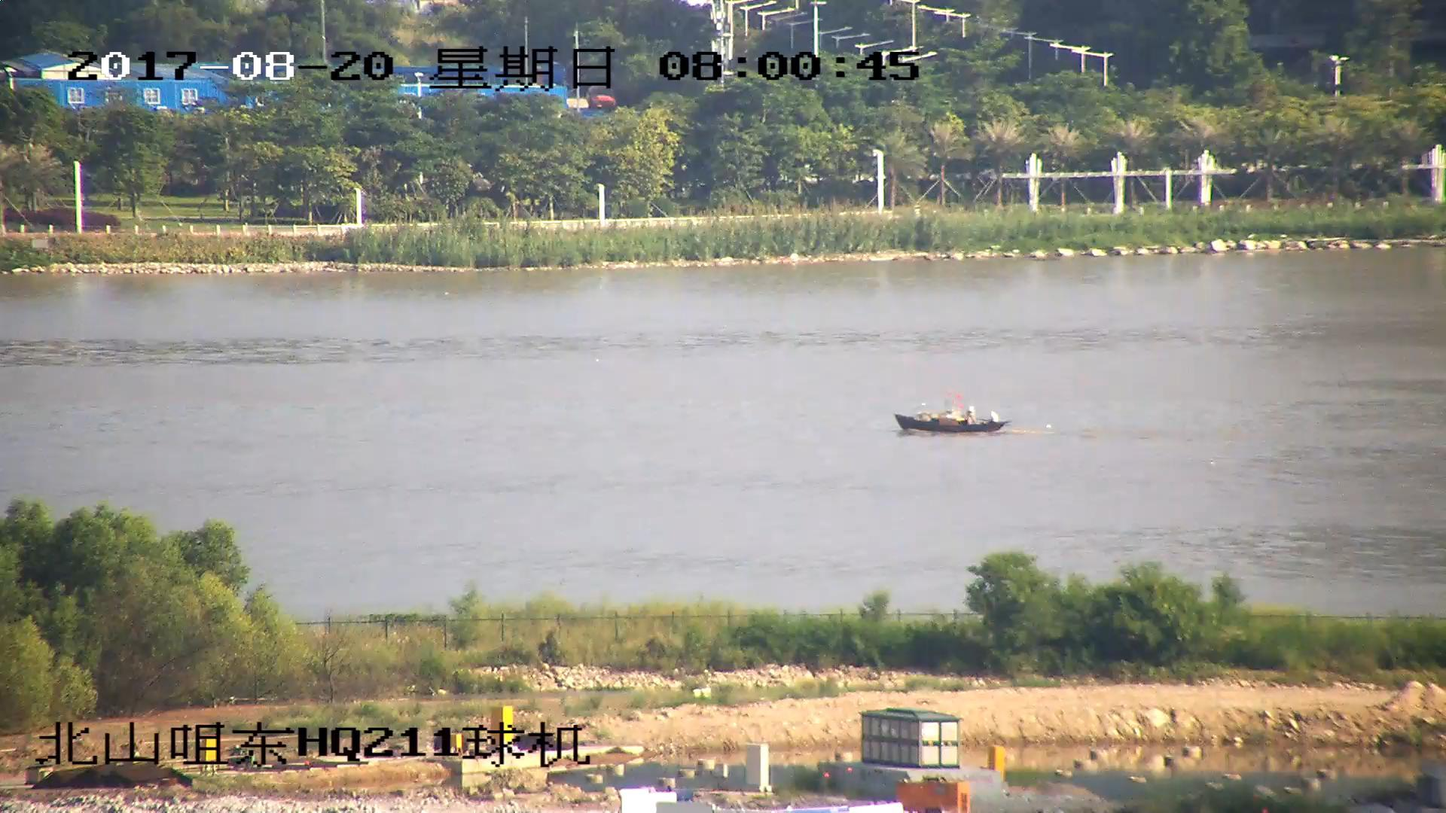fishing boat: (894, 397, 1005, 434)
